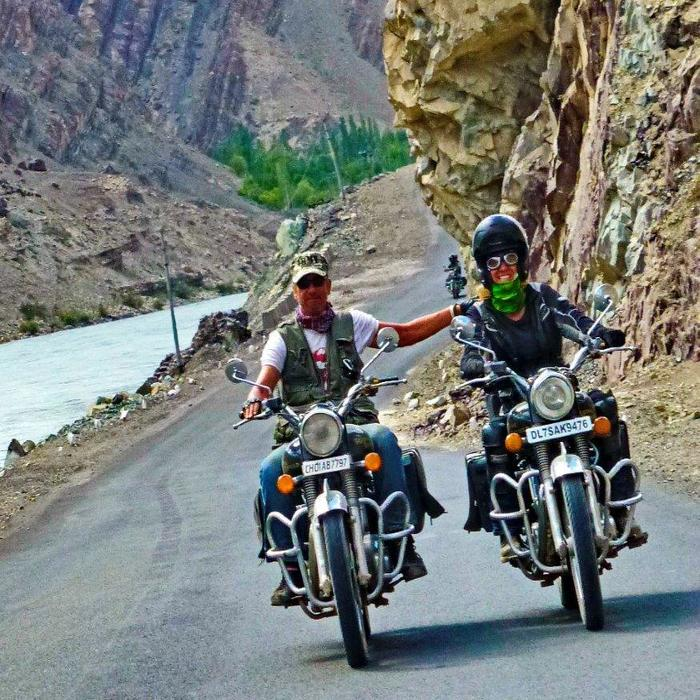h: (472, 212, 531, 293)
n: (525, 413, 595, 451), (300, 451, 352, 481)
